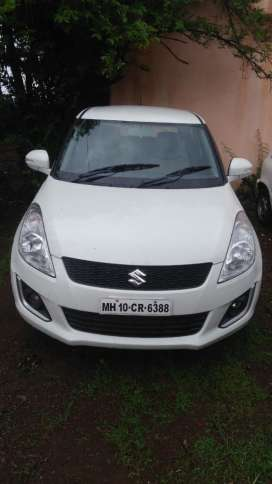license_plate: (95, 295, 177, 320)
